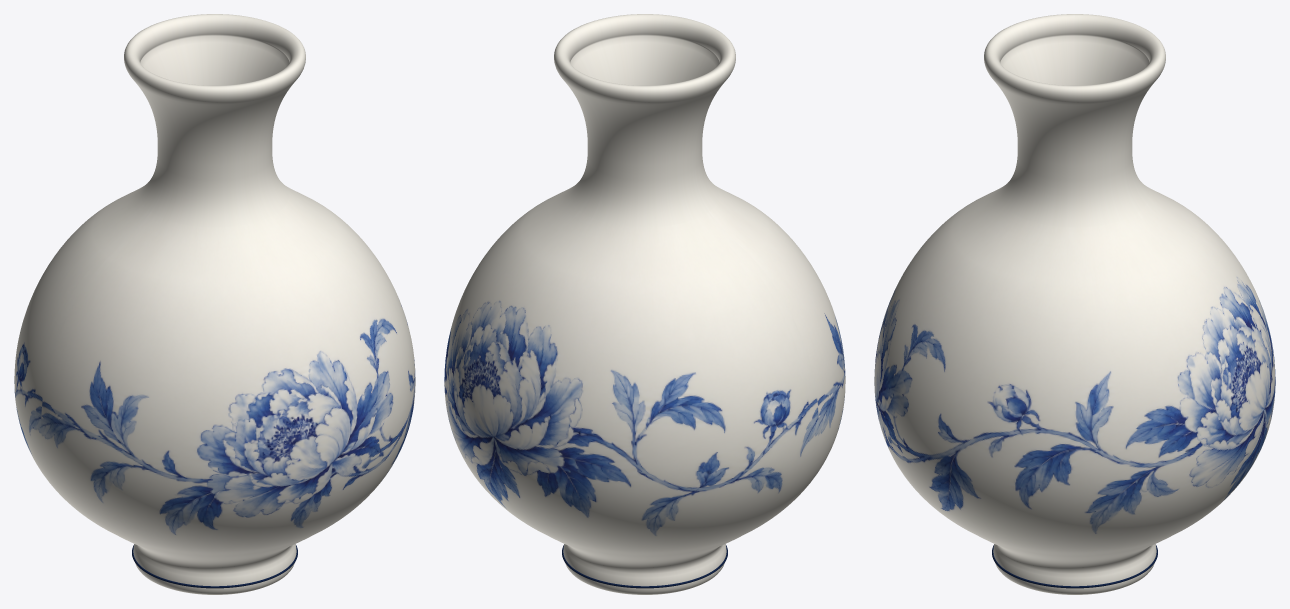
File: porcelain-vase.obj
3 views of the same model, side by side, from view 1: azimuth 30°, elevation 25°; view 2: azimuth 150°, elevation 25°; view 3: azimuth 270°, elevation 25° (orthographic).
Parts seen in each view (by area): view 1: Porcelain_body, Cobalt_foot_line; view 2: Porcelain_body, Cobalt_foot_line; view 3: Porcelain_body, Cobalt_foot_line.
Part boxes in pixels (x1,y1,x2,y2): Porcelain_body: [14, 14, 415, 594]; Cobalt_foot_line: [132, 545, 297, 588]; Porcelain_body: [444, 14, 845, 594]; Cobalt_foot_line: [562, 545, 727, 588]; Porcelain_body: [874, 14, 1275, 594]; Cobalt_foot_line: [992, 545, 1157, 588].
Bounding box in the file's own units: 1.47 × 2.09 × 1.47.
